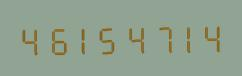five: (95, 20, 120, 56)
four: (17, 21, 42, 57), (121, 19, 146, 55), (199, 18, 224, 54)
one: (69, 20, 94, 56), (173, 19, 198, 54)
seven: (147, 19, 172, 55)
six: (43, 21, 68, 56)
